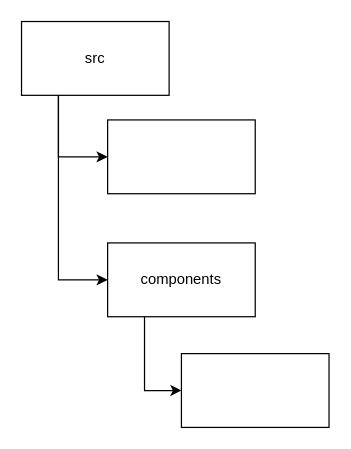
This 351x449 diagram has some shape labels left out. Here are the shapes that lost their labels. From the top down, the centre of each, then its label:
At point (180, 156): "containers".
At point (254, 389): "feature-based".
